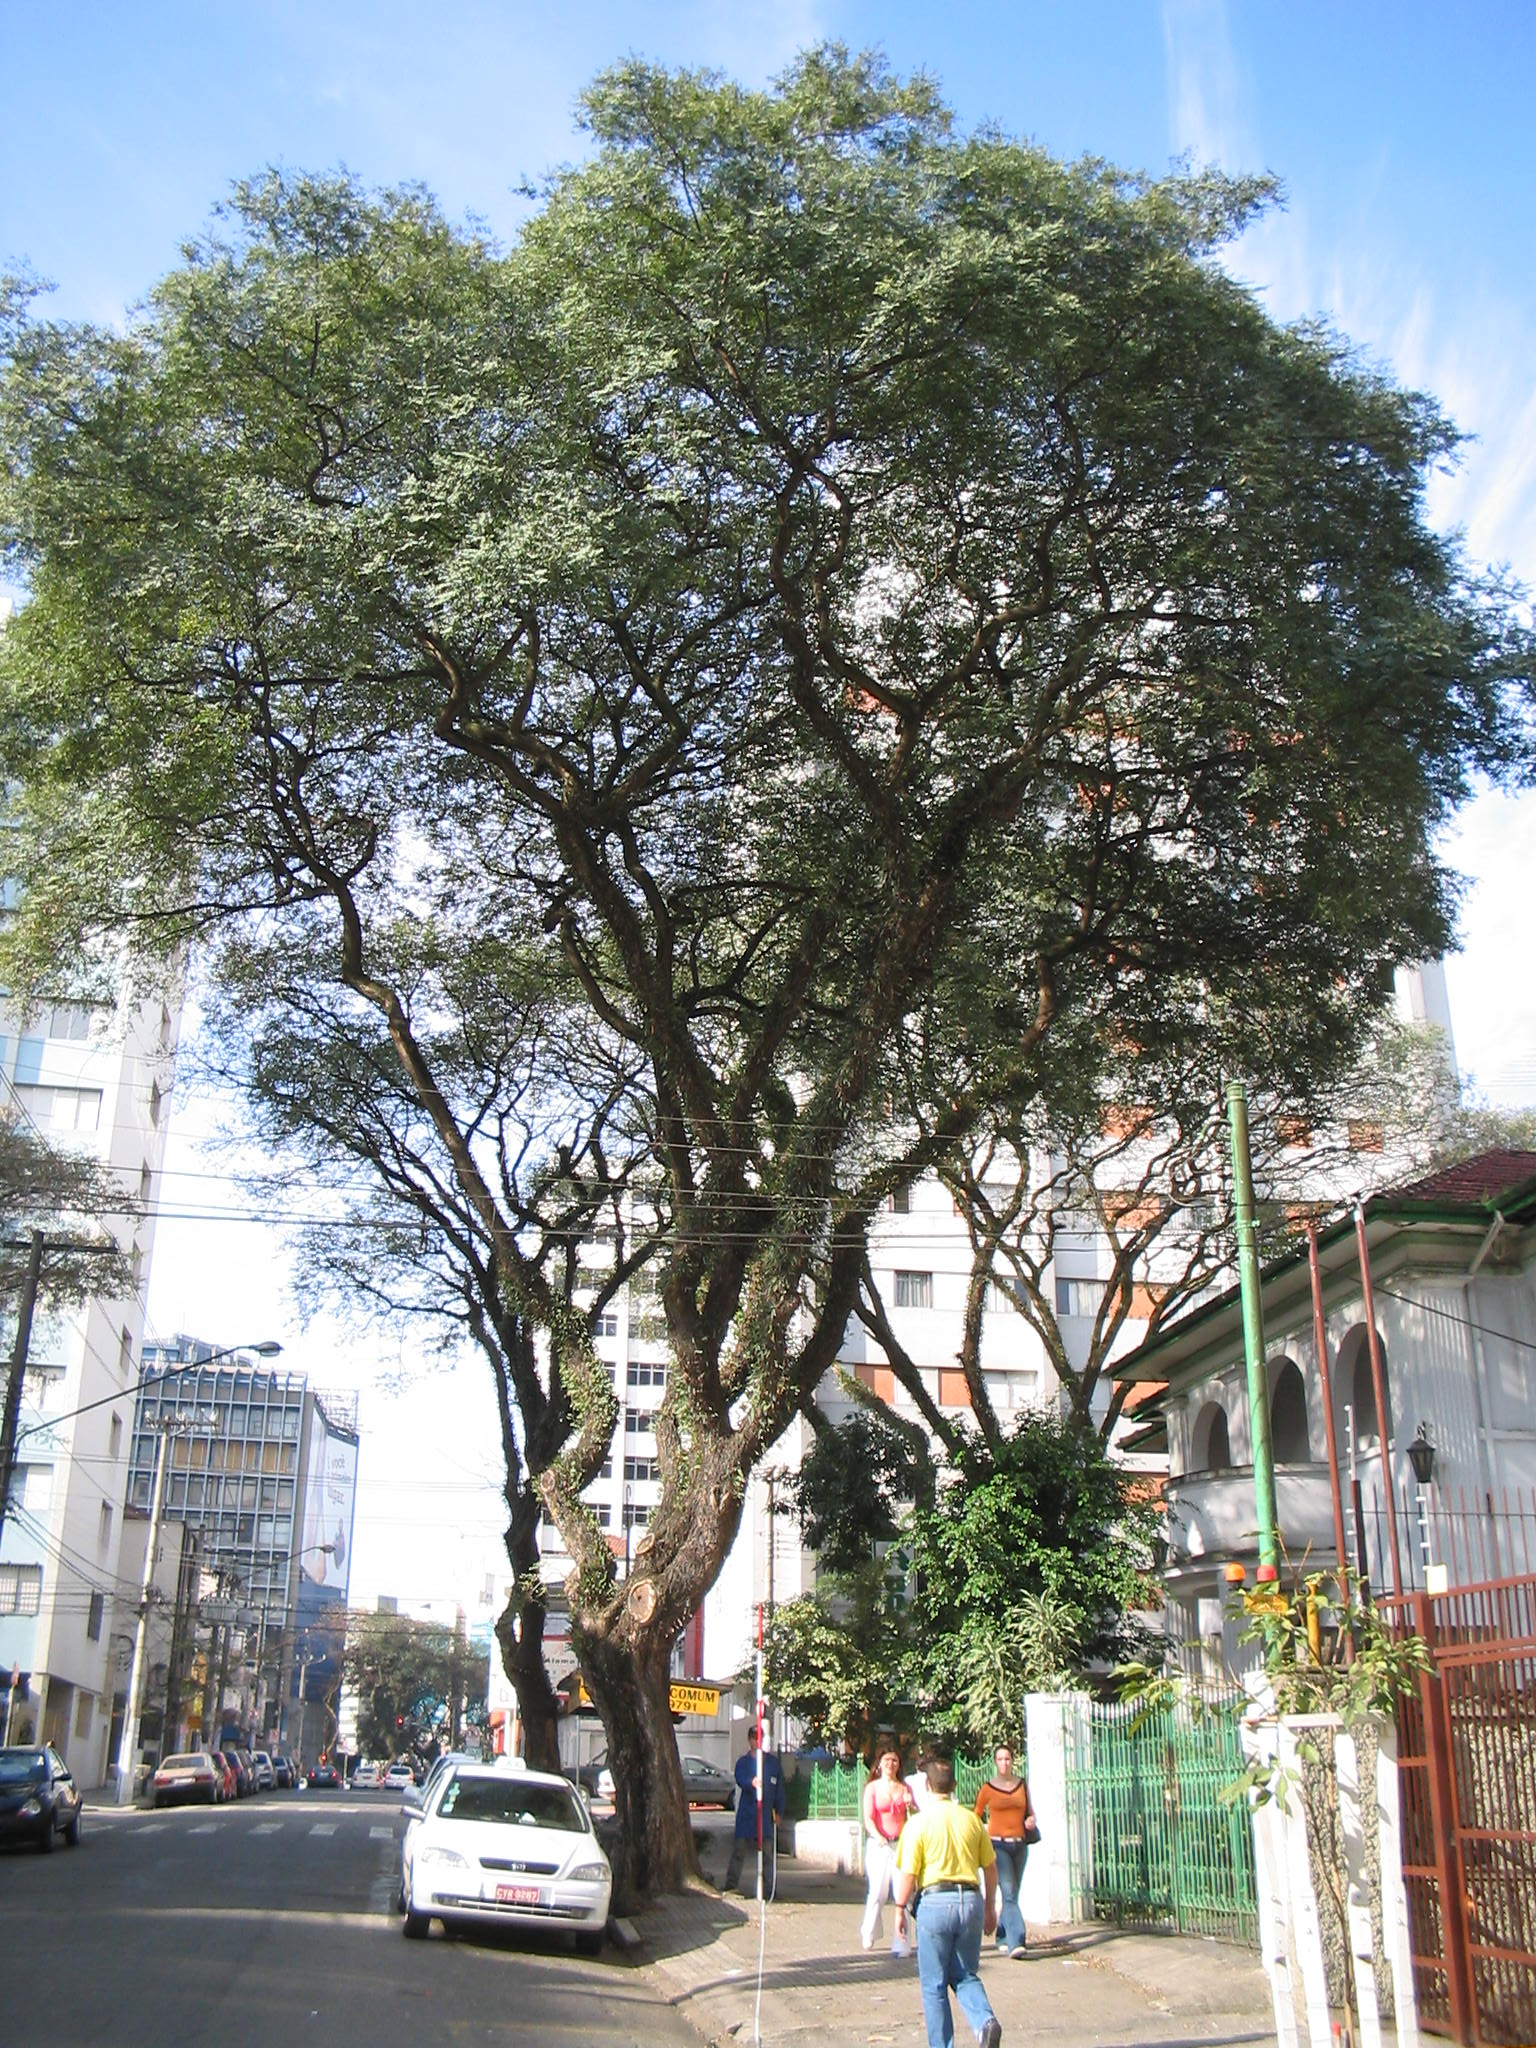crown: (15, 37, 1534, 1216)
stem: (570, 1653, 736, 1890)
stick: (744, 1608, 791, 1895)
tree: (10, 32, 1536, 1890)
